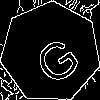G: (25, 27, 84, 88)
